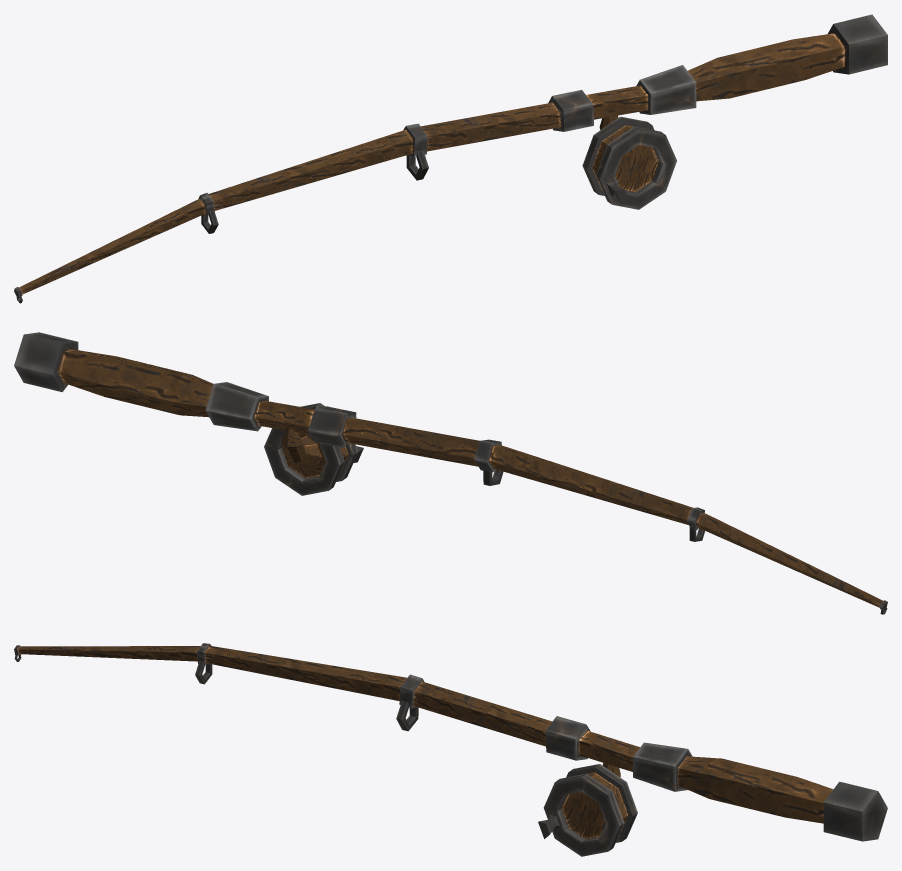
File: fishing.glb
3 renders of one model, top to bottom at view 1: azimuth 30°, elevation 25°; view 2: azimuth 150°, elevation 25°; view 3: azimuth 330°, elevation 25°, orthographic.
Visible parts, largest first — view 1: Circle; view 2: Circle; view 3: Circle.
Boxes of the visible parts, x1,y1,x2,y2 form: Circle: (14, 14, 887, 303); Circle: (14, 332, 887, 614); Circle: (14, 643, 887, 856).
Size of the model in its own units: 2600 by 321 by 275.
1 material, 1 textured.
